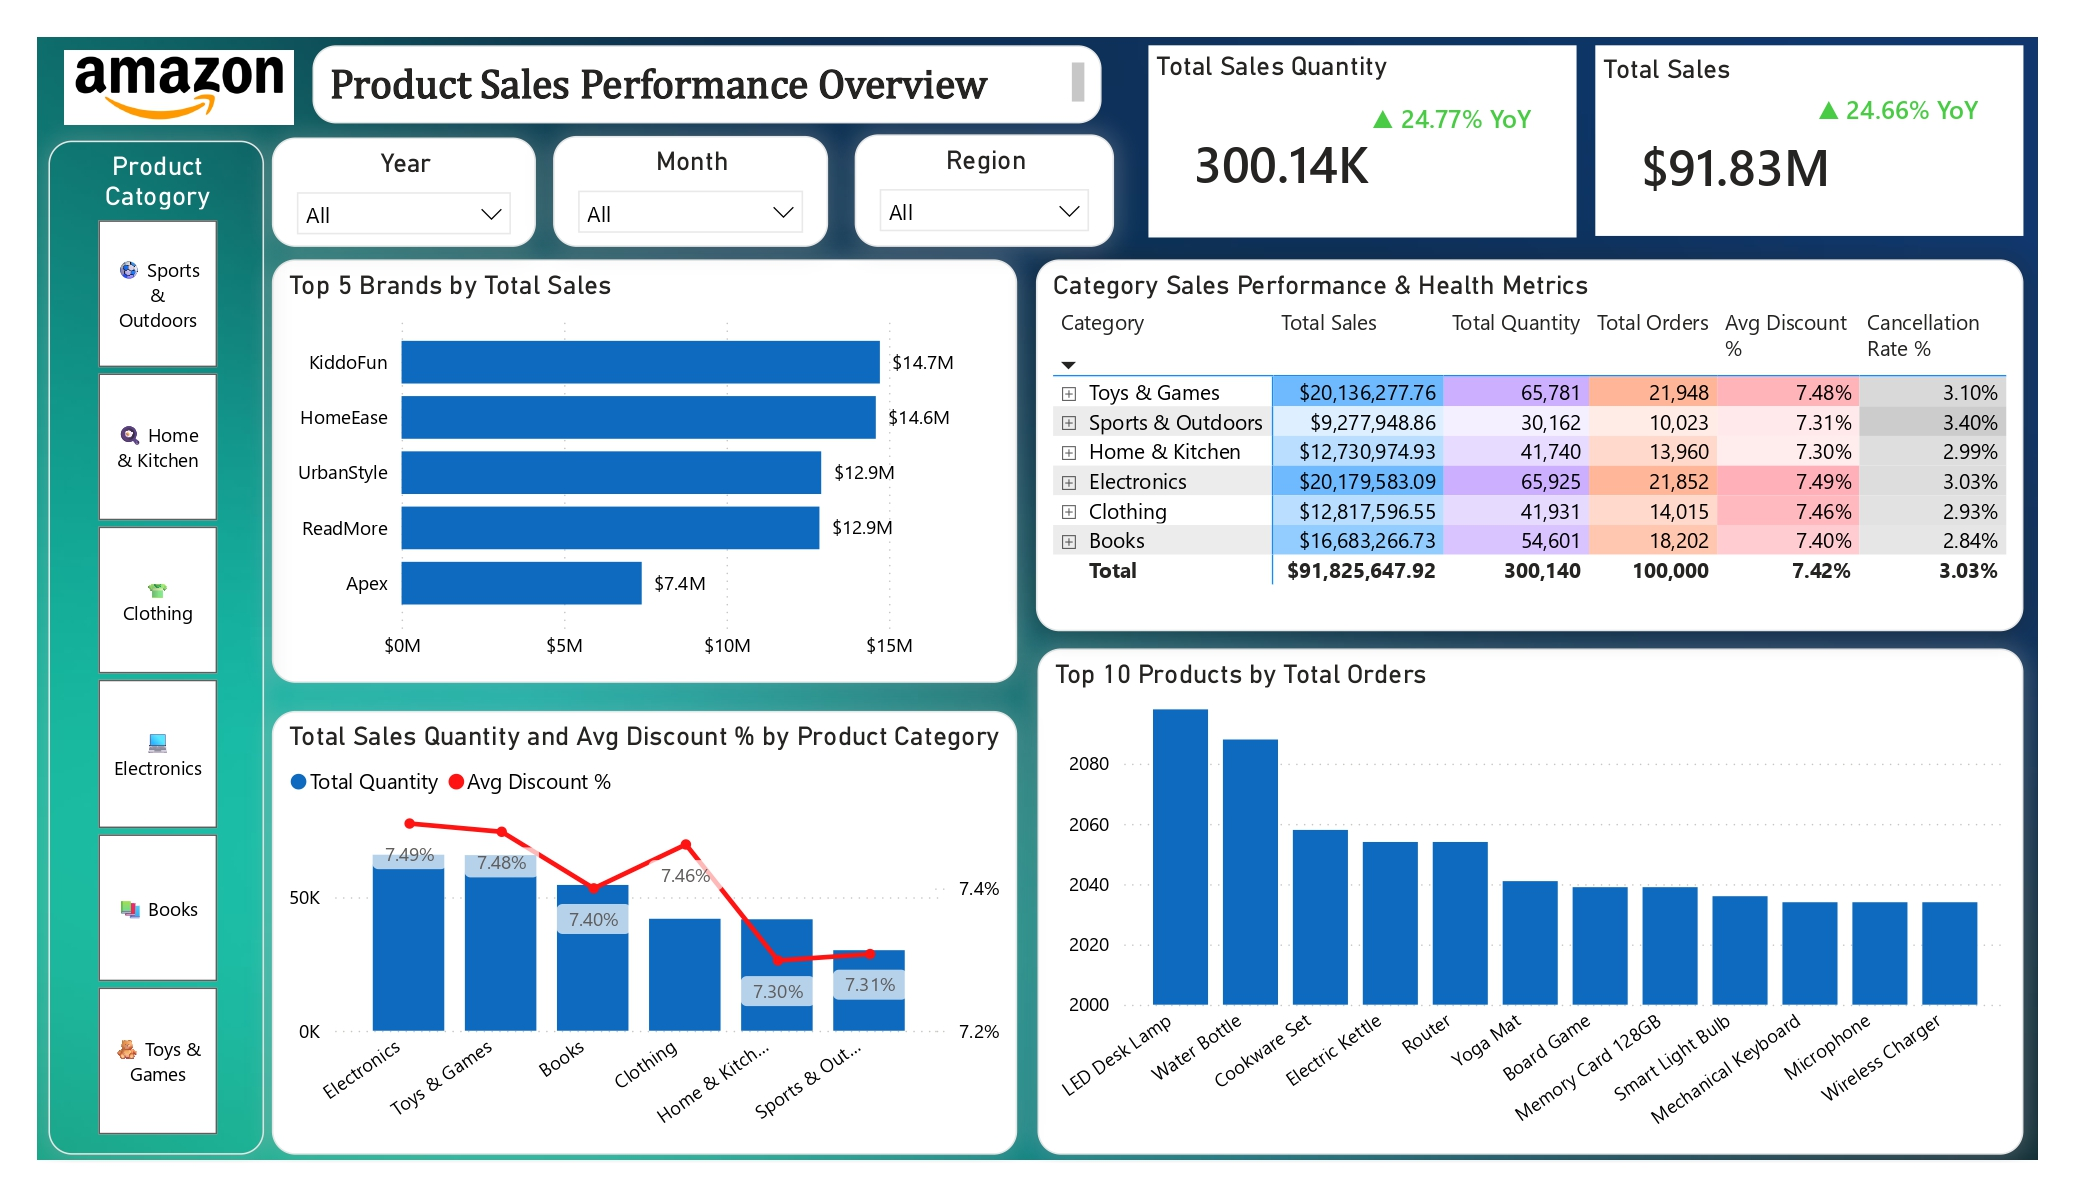

The dashboard page shown, as its layout file describes it:
{"tool":"powerbi","page":{"name":"Product Performance","canvas":[1280,720],"ordinal":1},"visuals":[{"type":"cardVisual","title":"Total Sales Quantity","fields":{"Data":["_All Measures.Total Quantity"]},"box":[711,7.8,238.6,120.2],"z":0,"group":"g1"},{"type":"clusteredBarChart","title":"Top 5 Brands by Total Sales","fields":{"Category":["Dim_Product.Brand"],"Y":["_All Measures.Total Sales"]},"box":[150,142,477,271],"z":0},{"type":"cardVisual","fields":{"Data":["_All Measures.Quantity_YoY_Indicator"]},"box":[711,5,274,90],"z":1000,"group":"g1"},{"type":"cardVisual","title":"Total Sales","fields":{"Data":["_All Measures.Total Revenue"]},"box":[997,10,274,117],"z":1000,"group":"g2"},{"type":"lineStackedColumnComboChart","title":"Top 10 Products by Total Orders ","fields":{"Category":["Dim_Product.ProductName"],"Y":["_All Measures.Total Orders"]},"box":[640,391,631,324],"z":1000},{"type":"cardVisual","fields":{"Data":["_All Measures.Profit_MoM_Indicator"]},"box":[1011.7,5,259.1,78.8],"z":2000,"group":"g2"},{"type":"slicer","title":"Product Catogory","fields":{"Values":["Dim_Product.Category with Icon"]},"box":[7,66,138,649],"z":2000},{"type":"group","id":"g1","title":"Group 1","box":[711,5,274,123],"z":3000},{"type":"slicer","title":"Year","fields":{"Values":["Dim_Date.Year"]},"box":[150,64,169,70],"z":4000},{"type":"slicer","title":"Month","fields":{"Values":["Dim_Date.Month No"]},"box":[330,63,176,71],"z":5000},{"type":"lineStackedColumnComboChart","title":"Total Sales Quantity and Avg Discount % by Product Category","fields":{"Category":["Dim_Product.Category"],"Y":["_All Measures.Total Quantity"],"Y2":["_All Measures.Avg Discount %"]},"box":[150,431,477,284],"z":6000},{"type":"pivotTable","title":"Category Sales Performance & Health Metrics","fields":{"Rows":["Dim_Product.Category","Dim_Product.ProductName"],"Values":["_All Measures.Total Sales","_All Measures.Total Quantity","_All Measures.Total Orders","_All Measures.Avg Discount %","_All Measures.Cancellation Rate %"]},"box":[639,142,632,238],"z":7000},{"type":"group","id":"g2","title":"Group 1","box":[997,5,274,122],"z":8000},{"type":"slicer","title":"Region","fields":{"Values":["Dim_Location.Country"]},"box":[523,62,166,72],"z":9000},{"type":"textbox","box":[176,5,505,50],"z":10000},{"type":"image","box":[17,8,147,48],"z":11000}]}

Visuals, with their boxes on the page's 1280x720 design canvas (x1, y1, x2, y2). These are canvas units, not pixel positions in the 2075x1200 screenshot, which may show the page scaled, cropped or inside an application window:
"Total Sales Quantity" cardVisual: (left=711, top=8, right=950, bottom=128)
"Top 5 Brands by Total Sales" clusteredBarChart: (left=150, top=142, right=627, bottom=413)
cardVisual - _All Measures.Quantity_YoY_Indicator: (left=711, top=5, right=985, bottom=95)
"Total Sales" cardVisual: (left=997, top=10, right=1271, bottom=127)
"Top 10 Products by Total Orders " lineStackedColumnComboChart: (left=640, top=391, right=1271, bottom=715)
cardVisual - _All Measures.Profit_MoM_Indicator: (left=1012, top=5, right=1271, bottom=84)
"Product Catogory" slicer: (left=7, top=66, right=145, bottom=715)
"Group 1" group: (left=711, top=5, right=985, bottom=128)
"Year" slicer: (left=150, top=64, right=319, bottom=134)
"Month" slicer: (left=330, top=63, right=506, bottom=134)
"Total Sales Quantity and Avg Discount % by Product Category" lineStackedColumnComboChart: (left=150, top=431, right=627, bottom=715)
"Category Sales Performance & Health Metrics" pivotTable: (left=639, top=142, right=1271, bottom=380)
"Group 1" group: (left=997, top=5, right=1271, bottom=127)
"Region" slicer: (left=523, top=62, right=689, bottom=134)
textbox: (left=176, top=5, right=681, bottom=55)
image: (left=17, top=8, right=164, bottom=56)
